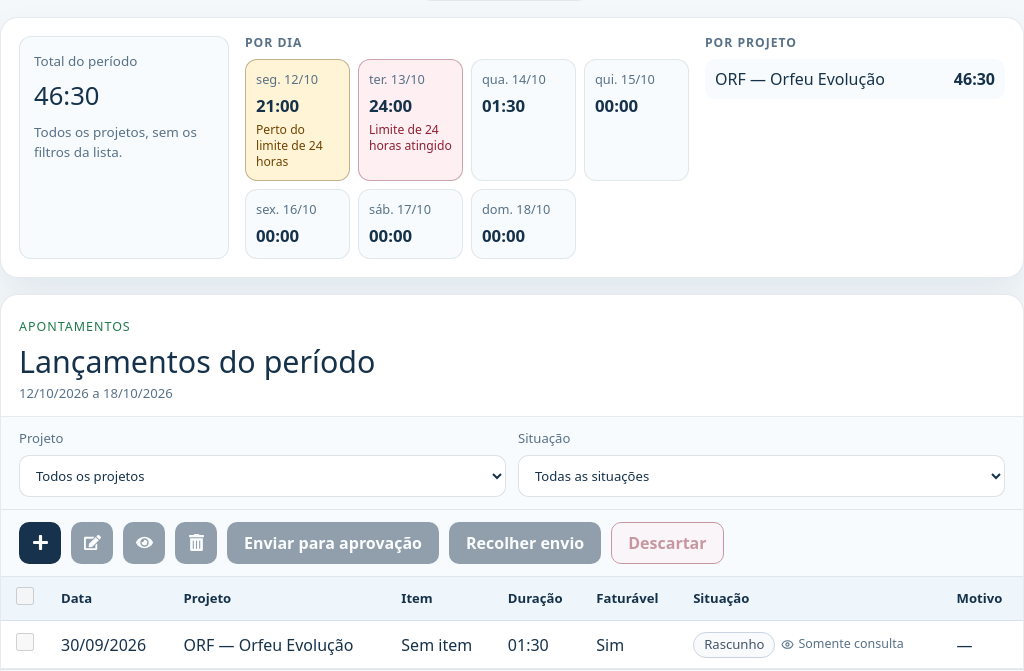
Test: Meus apontamentos › mostra a competência fechada como somente leitura com a explicação do backend
(page scrolled)
Expected: the heading "Lançamentos do período" is shown, [19,343,375,379]
Expected: the checkbox named "Selecionar apontamento de 30/09/2026 em ORF. Indisponível: A competência 09/2026 deste projeto está fechada." is disabled, [16,632,34,650]
Click the row that starts with "ORF — Orfeu Evolução" at (512, 644), box [1,621,1023,668]
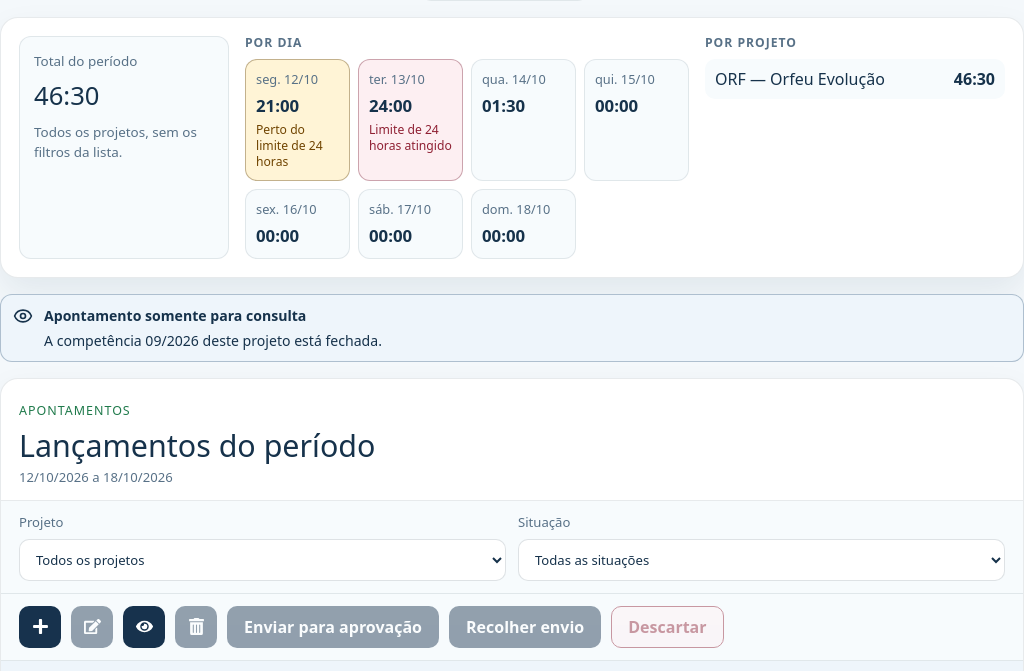
Expected: the button named "Alterar apontamento. Indisponível: A competência 09/2026 deste projeto está fechada." is disabled, [71,606,113,648]
Result: the text "Apontamento somente para consulta" is shown at [44,306,306,325]
Click the button named "Visualizar apontamento" at (144, 627), box [123,606,165,648]
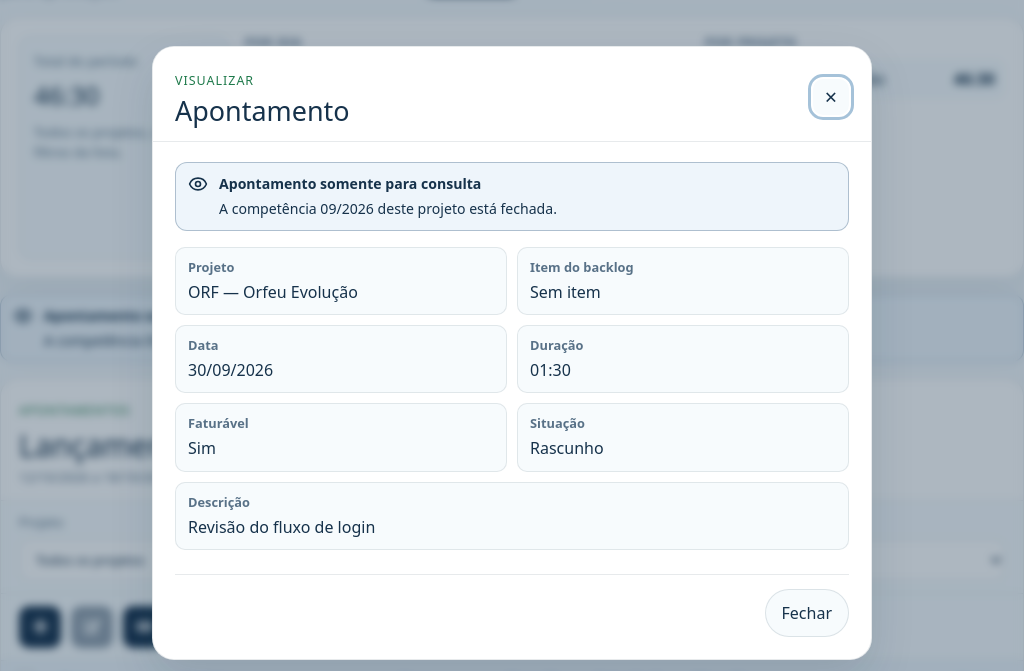
Result: the text "Revisão do fluxo de login" is shown at [188,516,375,538]
Result: the text "A competência 09/2026 deste projeto está fechada." is shown at [219,199,557,218]
Click the button "Fechar" at (807, 613), box [764,589,849,637]
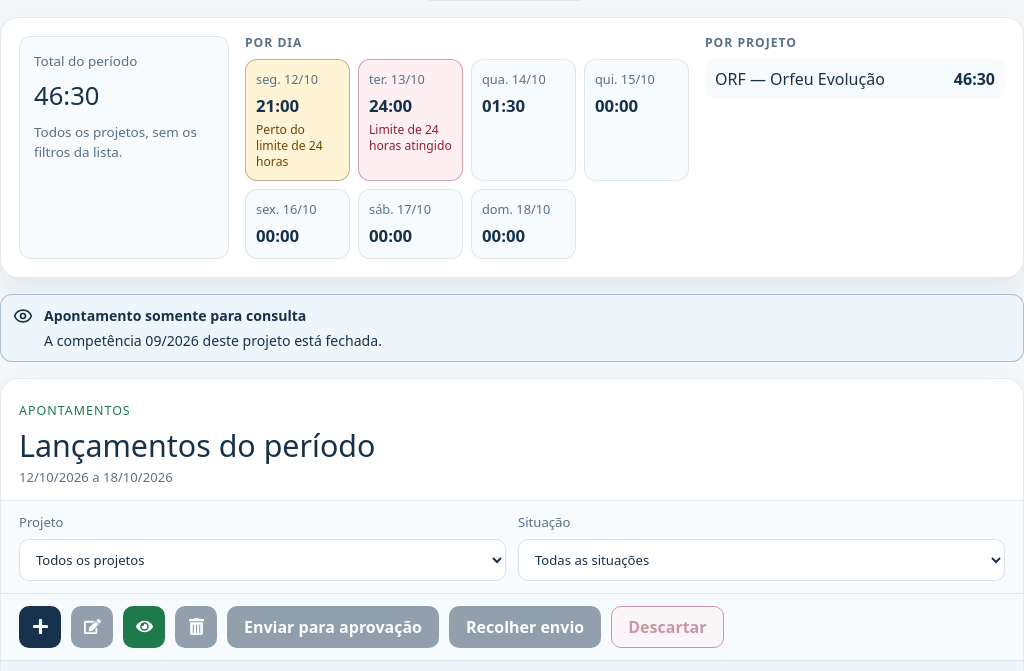
Result: the dialog is gone
